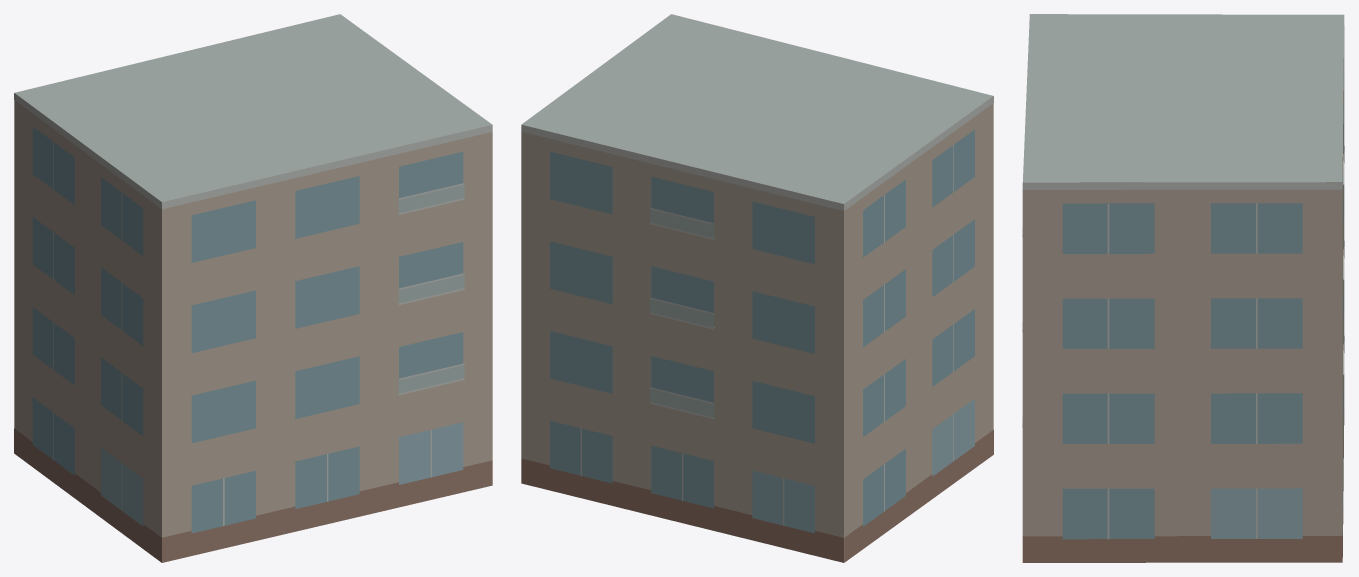
Rendered from survey-upis-33022282.glb.
3 renders of one model, left to right at view 1: azimuth 30°, elevation 25°; view 2: azimuth 150°, elevation 25°; view 3: azimuth 270°, elevation 25°, orthographic. The views are drawn at different scales.
Visible parts, largest first — view 1: survey-upis-33022282.tmp; view 2: survey-upis-33022282.tmp; view 3: survey-upis-33022282.tmp.
Boxes of the visible parts, x1=… form: survey-upis-33022282.tmp: x1=14, y1=14, x2=492, y2=562; survey-upis-33022282.tmp: x1=521, y1=14, x2=993, y2=562; survey-upis-33022282.tmp: x1=1022, y1=14, x2=1344, y2=562.
Bounding box in the file's own units: 11.89 × 12.5 × 9.62.
